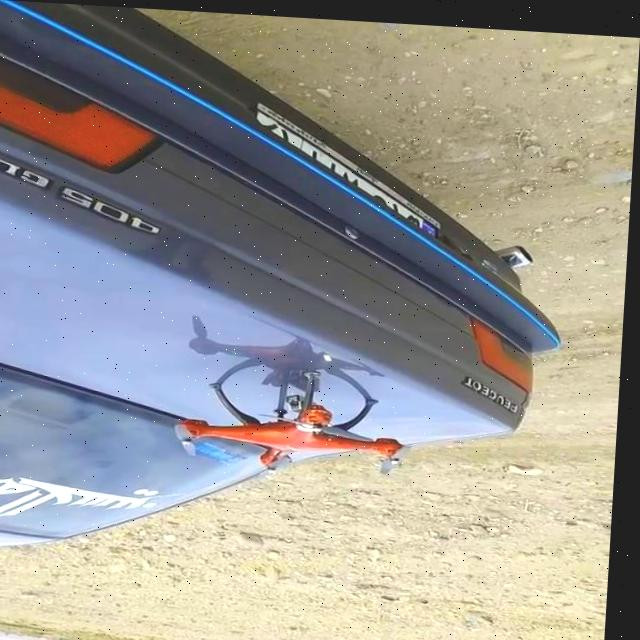drone: (171, 356, 425, 484)
